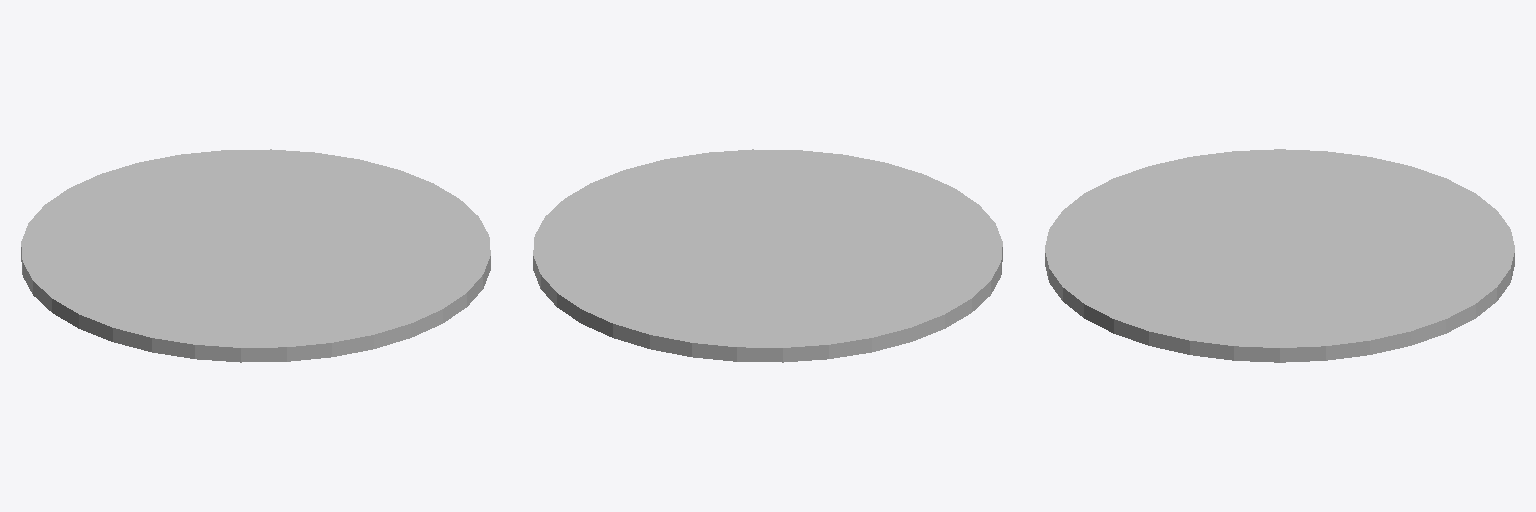
File: Circletile.obj
3 renders of one model, left to right at view 1: azimuth 30°, elevation 25°; view 2: azimuth 150°, elevation 25°; view 3: azimuth 270°, elevation 25°, orthographic.
Parts seen in each view (by area): view 1: Circle; view 2: Circle; view 3: Circle.
Boxes of the visible parts, <box> form: Circle: <box>21,149,490,362</box>; Circle: <box>533,149,1002,362</box>; Circle: <box>1045,149,1514,362</box>.
Bounding box in the file's own units: 2 × 0.068 × 2.